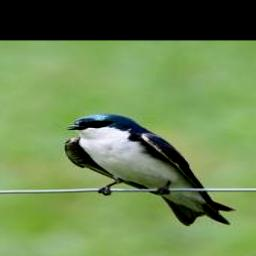Swallow: (64, 113, 238, 226)
